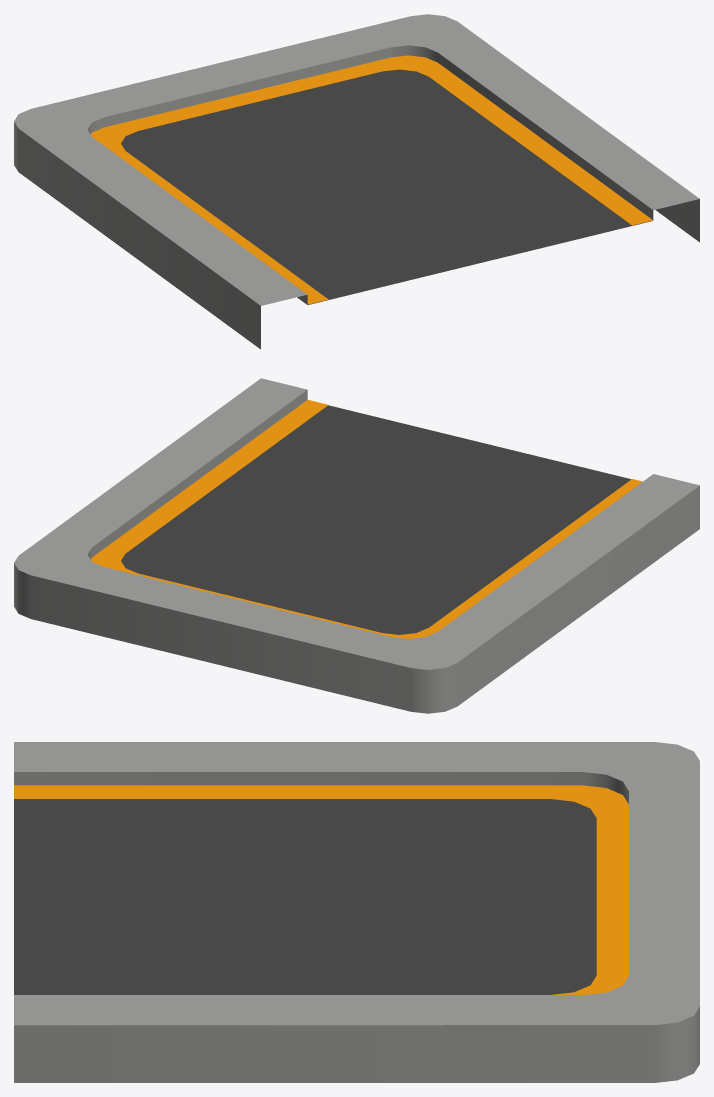
Rendered from Road_A_18.fbx.
The picture shows the model from 3 angles, top to bottom: view 1: azimuth 30°, elevation 25°; view 2: azimuth 150°, elevation 25°; view 3: azimuth 270°, elevation 25°; orthographic projection. The views are drawn at different scales.
Parts seen in each view (by area): view 1: Road_A_18; view 2: Road_A_18; view 3: Road_A_18.
Part boxes in pixels (box(x1,y1,x2,y2)): Road_A_18: box(14, 14, 699, 349); Road_A_18: box(14, 378, 699, 713); Road_A_18: box(14, 742, 699, 1082).
Bounding box in the file's own units: 436 × 41.51 × 446.
